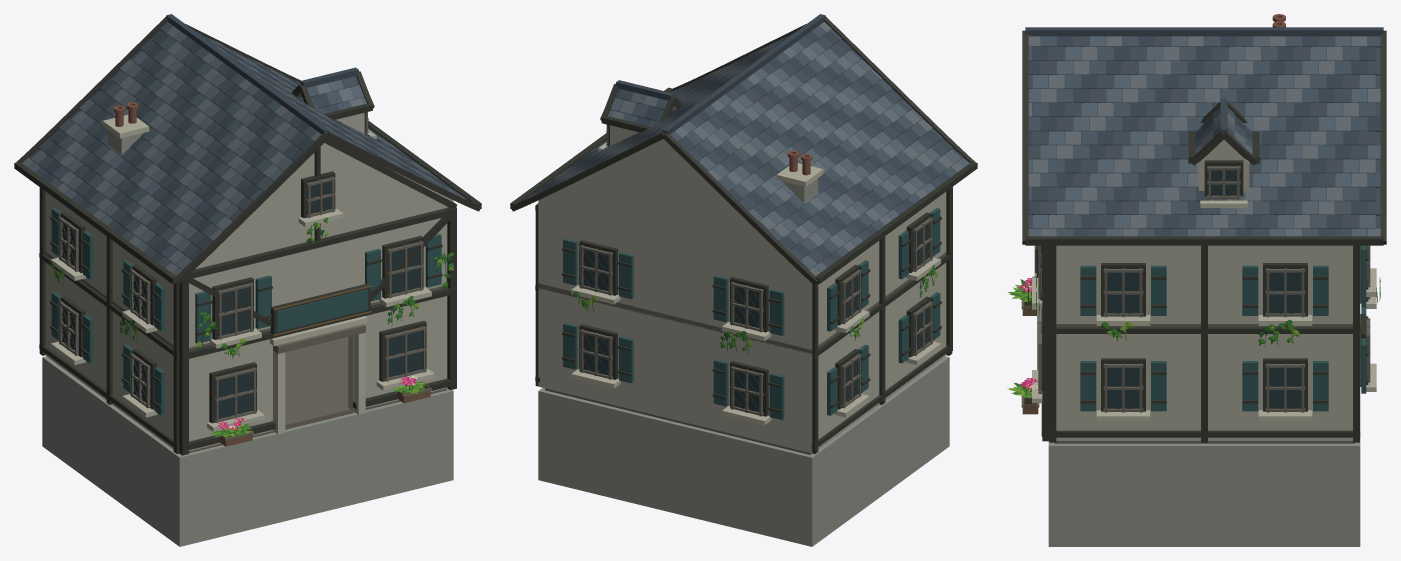
Rendered from village_library.glb.
3 views of the same model, side by side, from view 1: azimuth 30°, elevation 25°; view 2: azimuth 150°, elevation 25°; view 3: azimuth 270°, elevation 25° (orthographic). The views are drawn at different scales.
Visible parts, largest first — view 1: village_library; view 2: village_library; view 3: village_library.
Boxes of the visible parts, left/top/right/bottom form: village_library: left=14, top=14, right=481, bottom=546; village_library: left=510, top=14, right=977, bottom=546; village_library: left=1007, top=14, right=1386, bottom=546.
Size of the model in its own units: 10.38 by 12.54 by 9.77.
